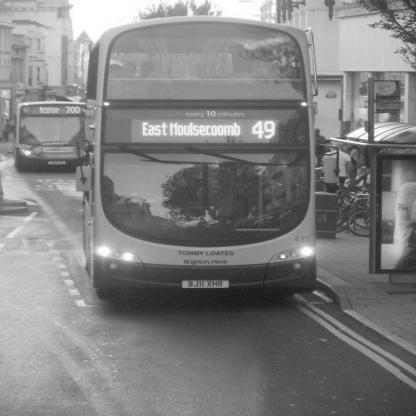bus: (78, 22, 334, 305), (19, 92, 93, 176)
